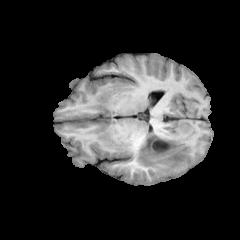glioma: (103, 134, 192, 170)
